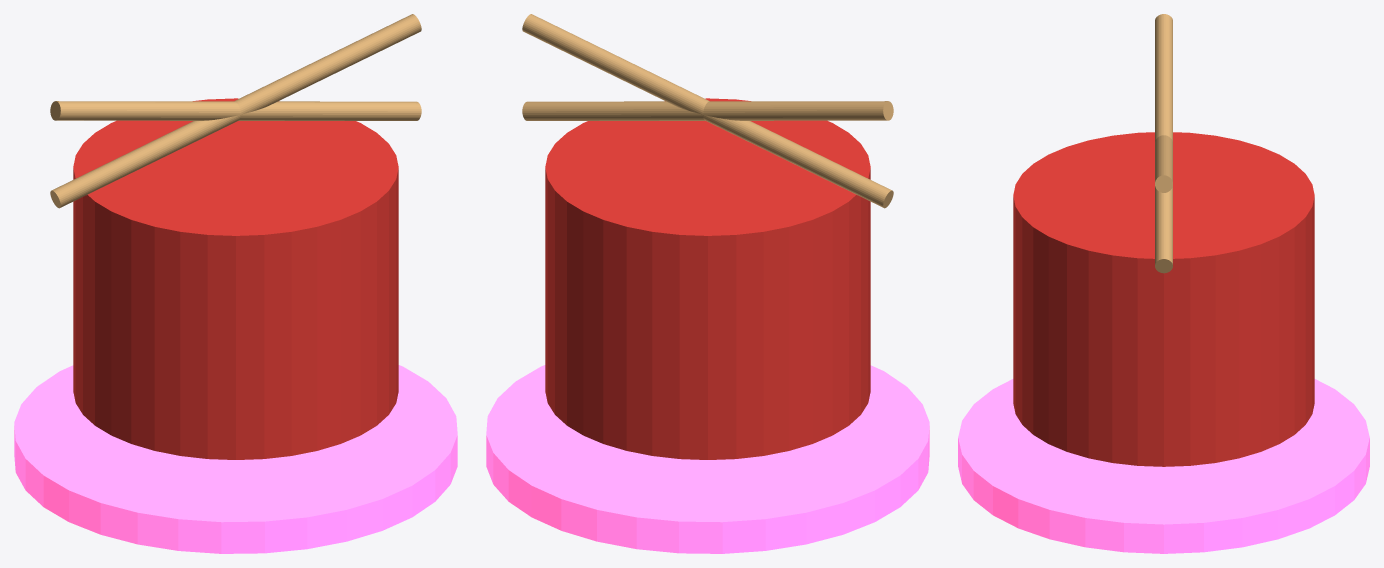
File: music_drum.glb
3 views of the same model, side by side, from view 1: azimuth 30°, elevation 25°; view 2: azimuth 150°, elevation 25°; view 3: azimuth 270°, elevation 25° (orthographic). The views are drawn at different scales.
Visible parts, largest first — view 1: 07_09_Popular_Music_Drum_part_01, 07_09_Popular_Music_Drum_ROOT_base, 07_09_Popular_Music_Drum_part_03, 07_09_Popular_Music_Drum_part_02; view 2: 07_09_Popular_Music_Drum_part_01, 07_09_Popular_Music_Drum_ROOT_base, 07_09_Popular_Music_Drum_part_03, 07_09_Popular_Music_Drum_part_02; view 3: 07_09_Popular_Music_Drum_part_01, 07_09_Popular_Music_Drum_ROOT_base, 07_09_Popular_Music_Drum_part_02, 07_09_Popular_Music_Drum_part_03.
Boxes of the visible parts, x1,y1,x2,y2 form: 07_09_Popular_Music_Drum_part_01: (73,98,398,459); 07_09_Popular_Music_Drum_ROOT_base: (14,365,457,553); 07_09_Popular_Music_Drum_part_03: (50,14,421,208); 07_09_Popular_Music_Drum_part_02: (50,101,421,120); 07_09_Popular_Music_Drum_part_01: (545,98,870,459); 07_09_Popular_Music_Drum_ROOT_base: (486,365,929,553); 07_09_Popular_Music_Drum_part_03: (522,14,893,208); 07_09_Popular_Music_Drum_part_02: (522,101,893,120); 07_09_Popular_Music_Drum_part_01: (1013,132,1314,466); 07_09_Popular_Music_Drum_ROOT_base: (958,379,1369,553); 07_09_Popular_Music_Drum_part_02: (1155,14,1172,273); 07_09_Popular_Music_Drum_part_03: (1155,135,1172,192).
Size of the model in its own units: 0.76 by 0.7585 by 0.76.
